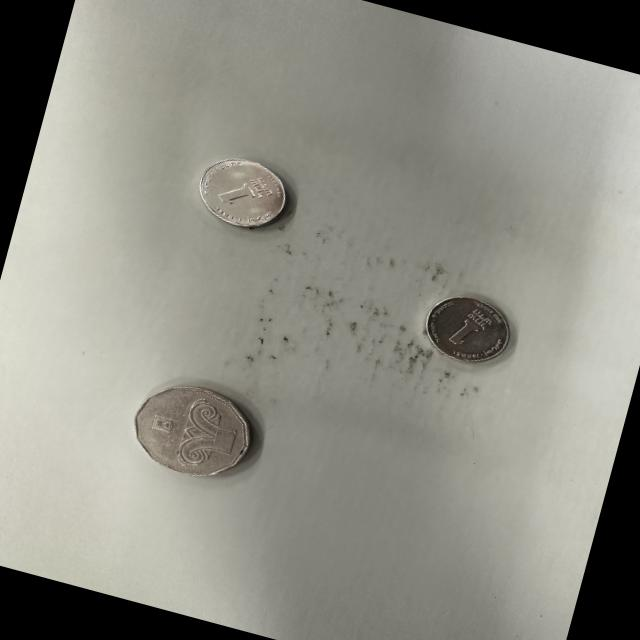1-shekel: (190, 140, 299, 238), (420, 284, 526, 376)
5-shekel: (110, 364, 270, 484)
